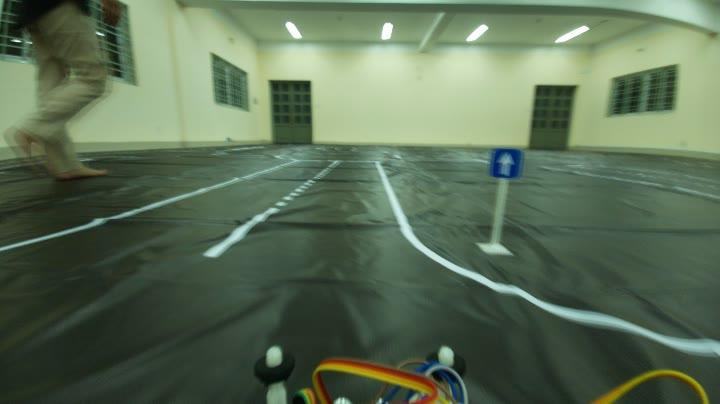onewayroad: (484, 143, 527, 182)
